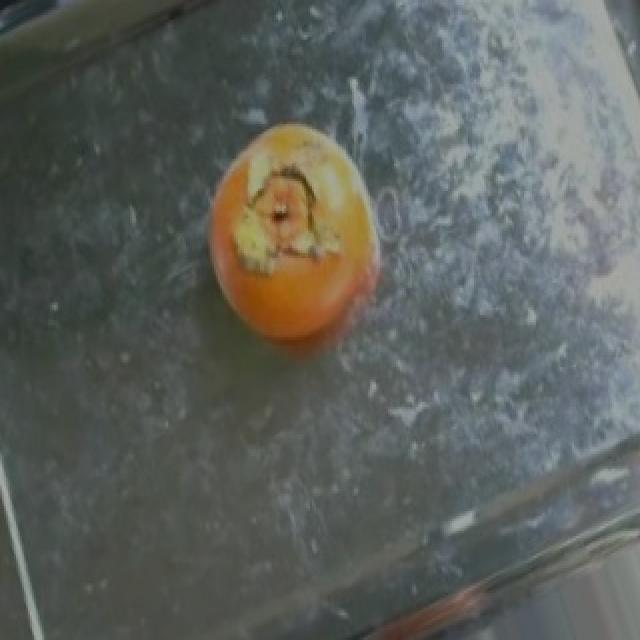Fruit: (184, 109, 410, 382)
